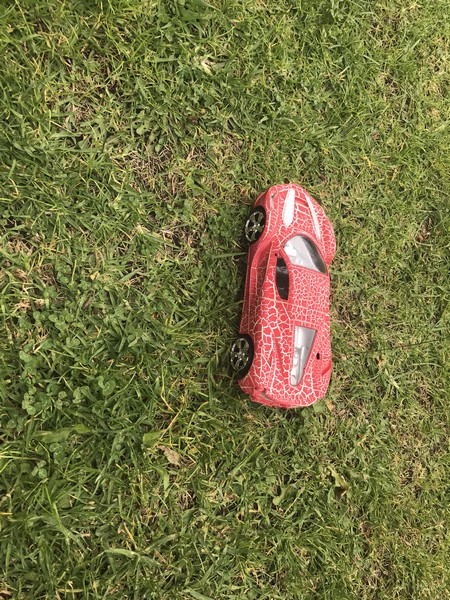RC: (230, 183, 337, 412)
